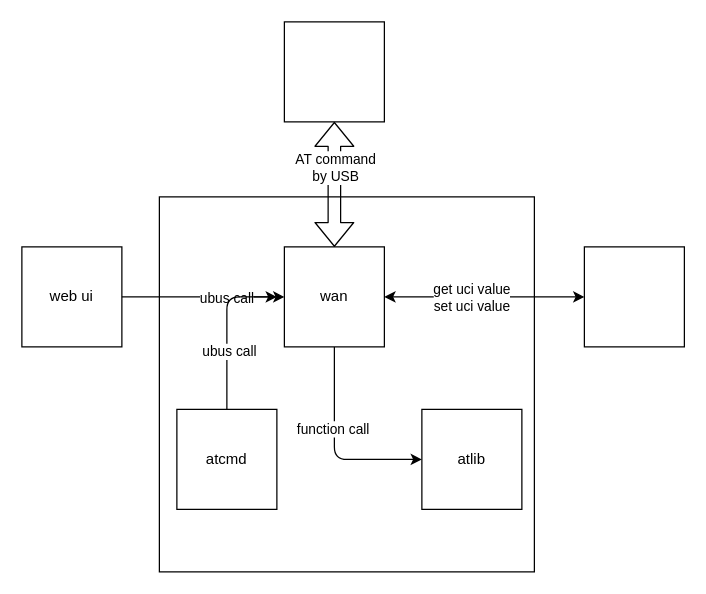
Image size: 706x594. Some labels were removed from this diagram. The centre of each missing label's shape, as x and y in pixels:
modem chip: point (333, 71)
uci config file: point (633, 296)
